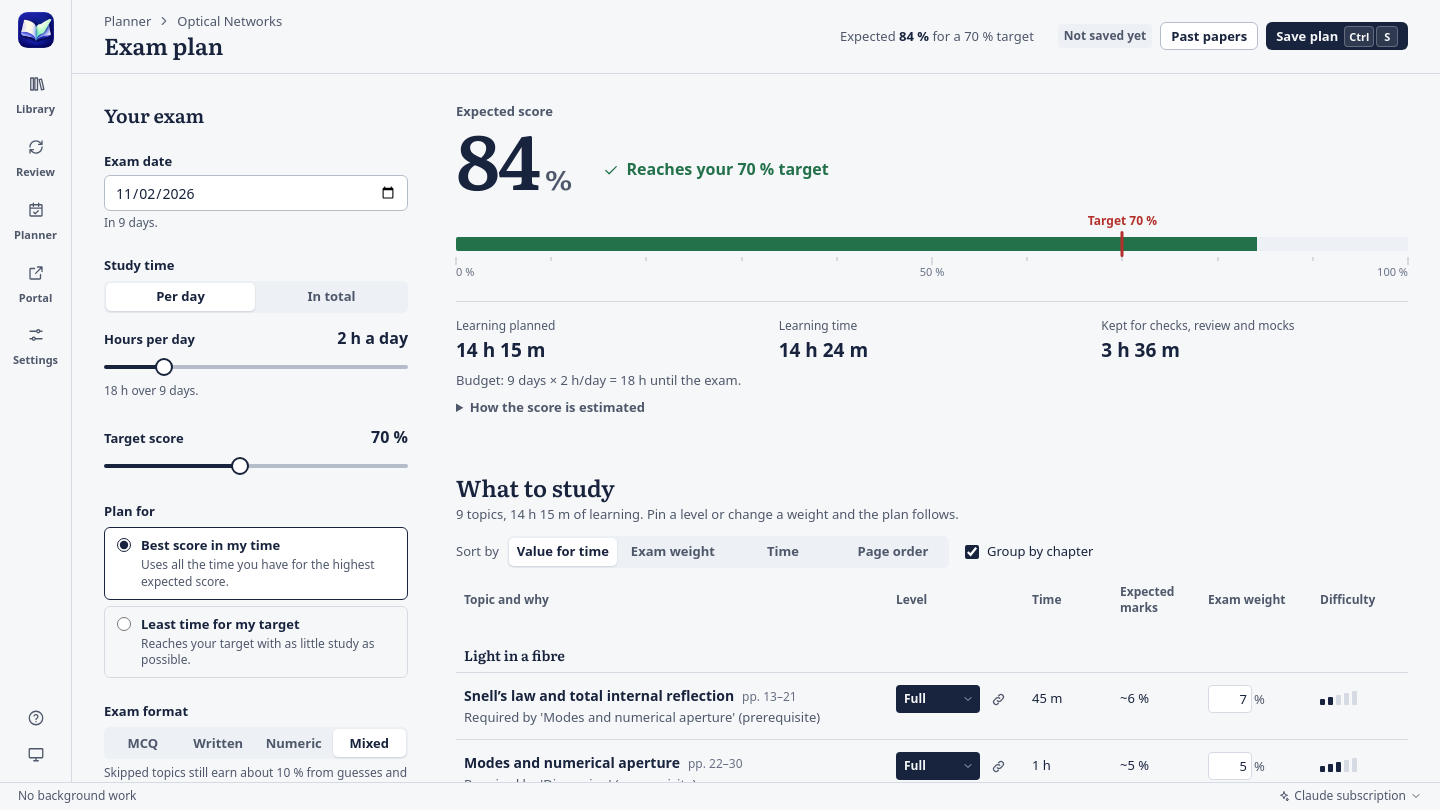
PlannerScreen › saves the input the student sees with plan.save
Expected: the text "Not saved yet" is shown, [1058,24,1152,48]
Step 1. Set the slider labelled "Target score" to "80" → (304, 466), box [104,454,408,478]
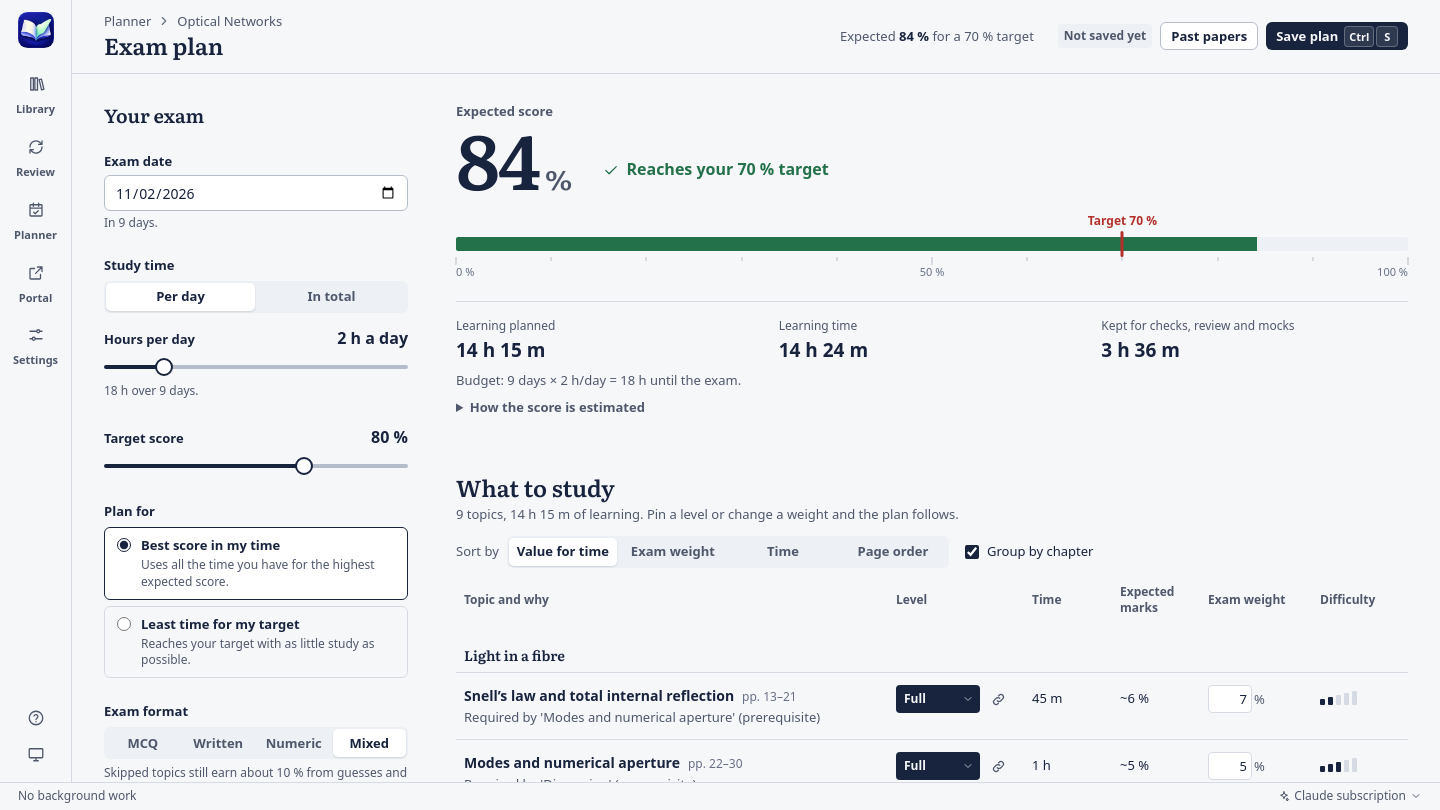
Step 2. Click the radio button labelled "Least time for my target" → (124, 624), box [117,617,131,631]
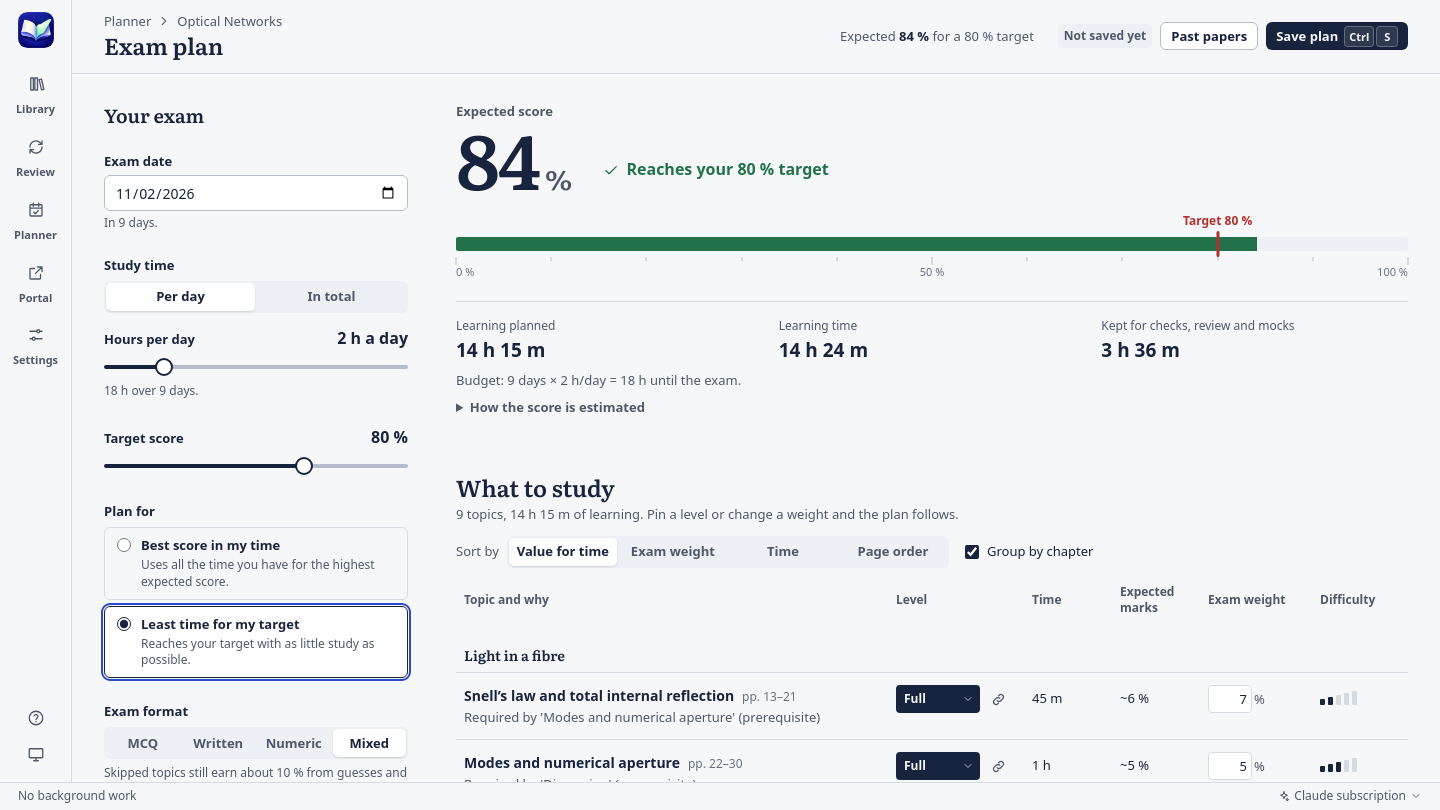
Step 3. Click the button "Save plan Ctrl S" → (1337, 36), box [1266,22,1408,50]
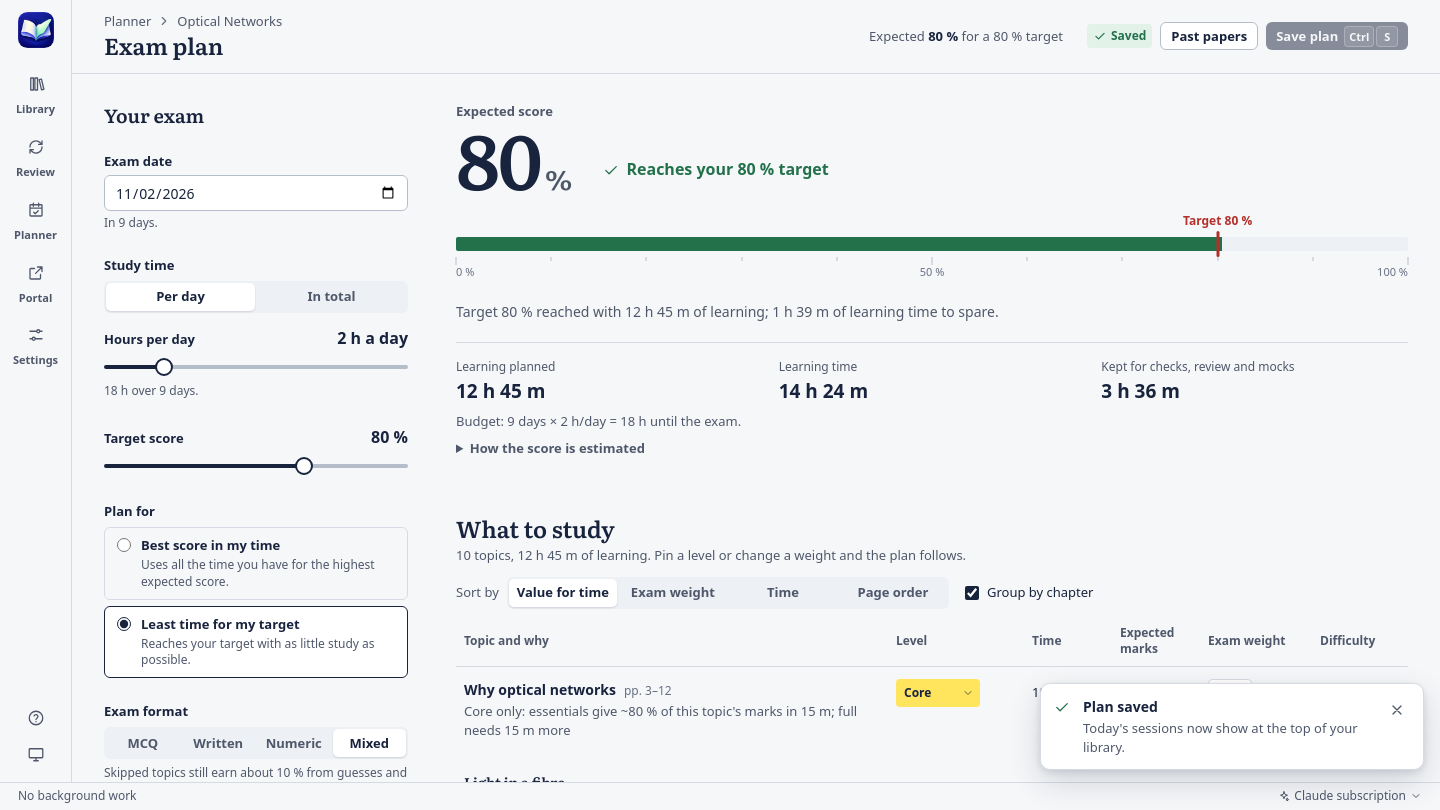
Expected: the text "Saved" is shown, [1087,24,1152,48]
Expected: the button "Save plan Ctrl S" is disabled, [1266,22,1408,50]
